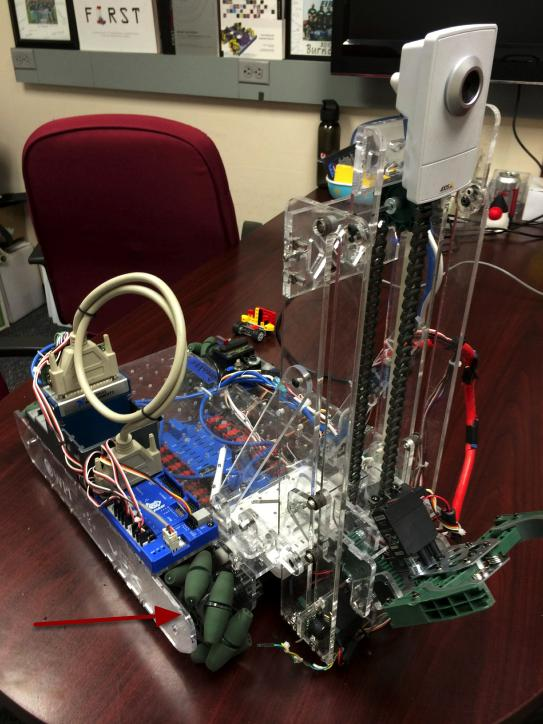robot: (19, 13, 543, 702)
